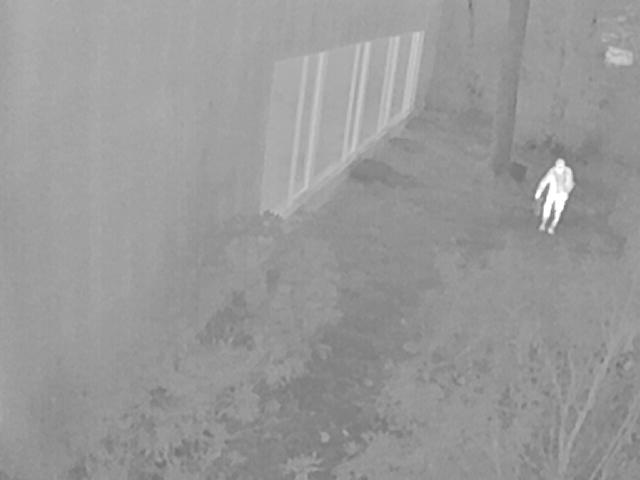person: (536, 157, 576, 234)
